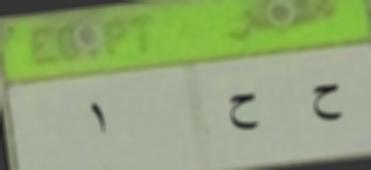1: (84, 96, 114, 139)
7aa: (224, 86, 264, 135), (304, 78, 345, 124)
